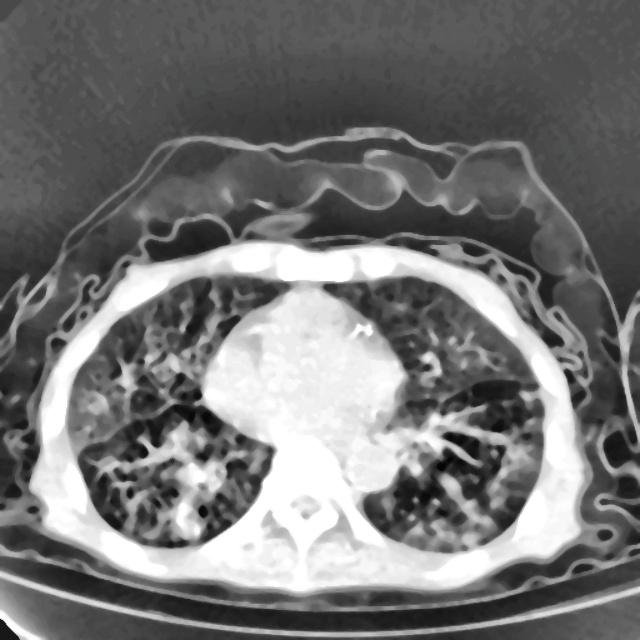covid: (1, 126, 638, 614)
